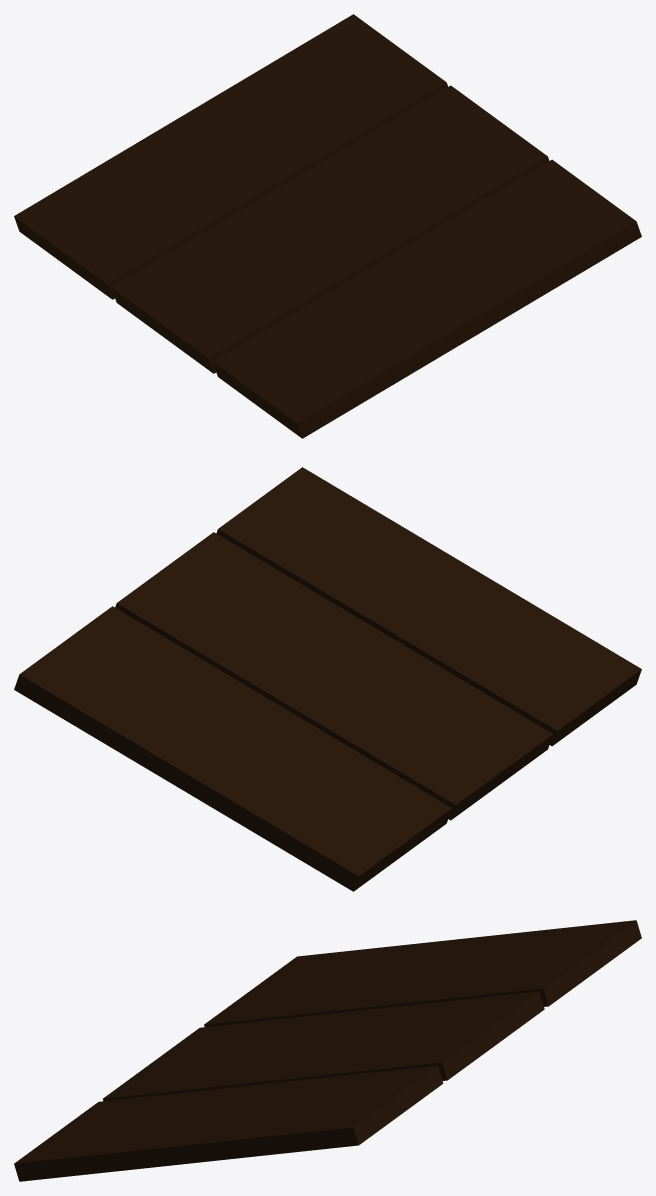
File: Wood_Planks_2.FBX
3 renders of one model, top to bottom at view 1: azimuth 30°, elevation 25°; view 2: azimuth 150°, elevation 25°; view 3: azimuth 330°, elevation 25°, orthographic.
Parts seen in each view (by area): view 1: Box014; view 2: Box014; view 3: Box014.
Boxes of the visible parts, x1,y1,x2,y2 form: Box014: [14, 14, 641, 438]; Box014: [14, 467, 641, 891]; Box014: [14, 920, 641, 1181].
Size of the model in its own units: 36.66 by 13.81 by 52.12.
